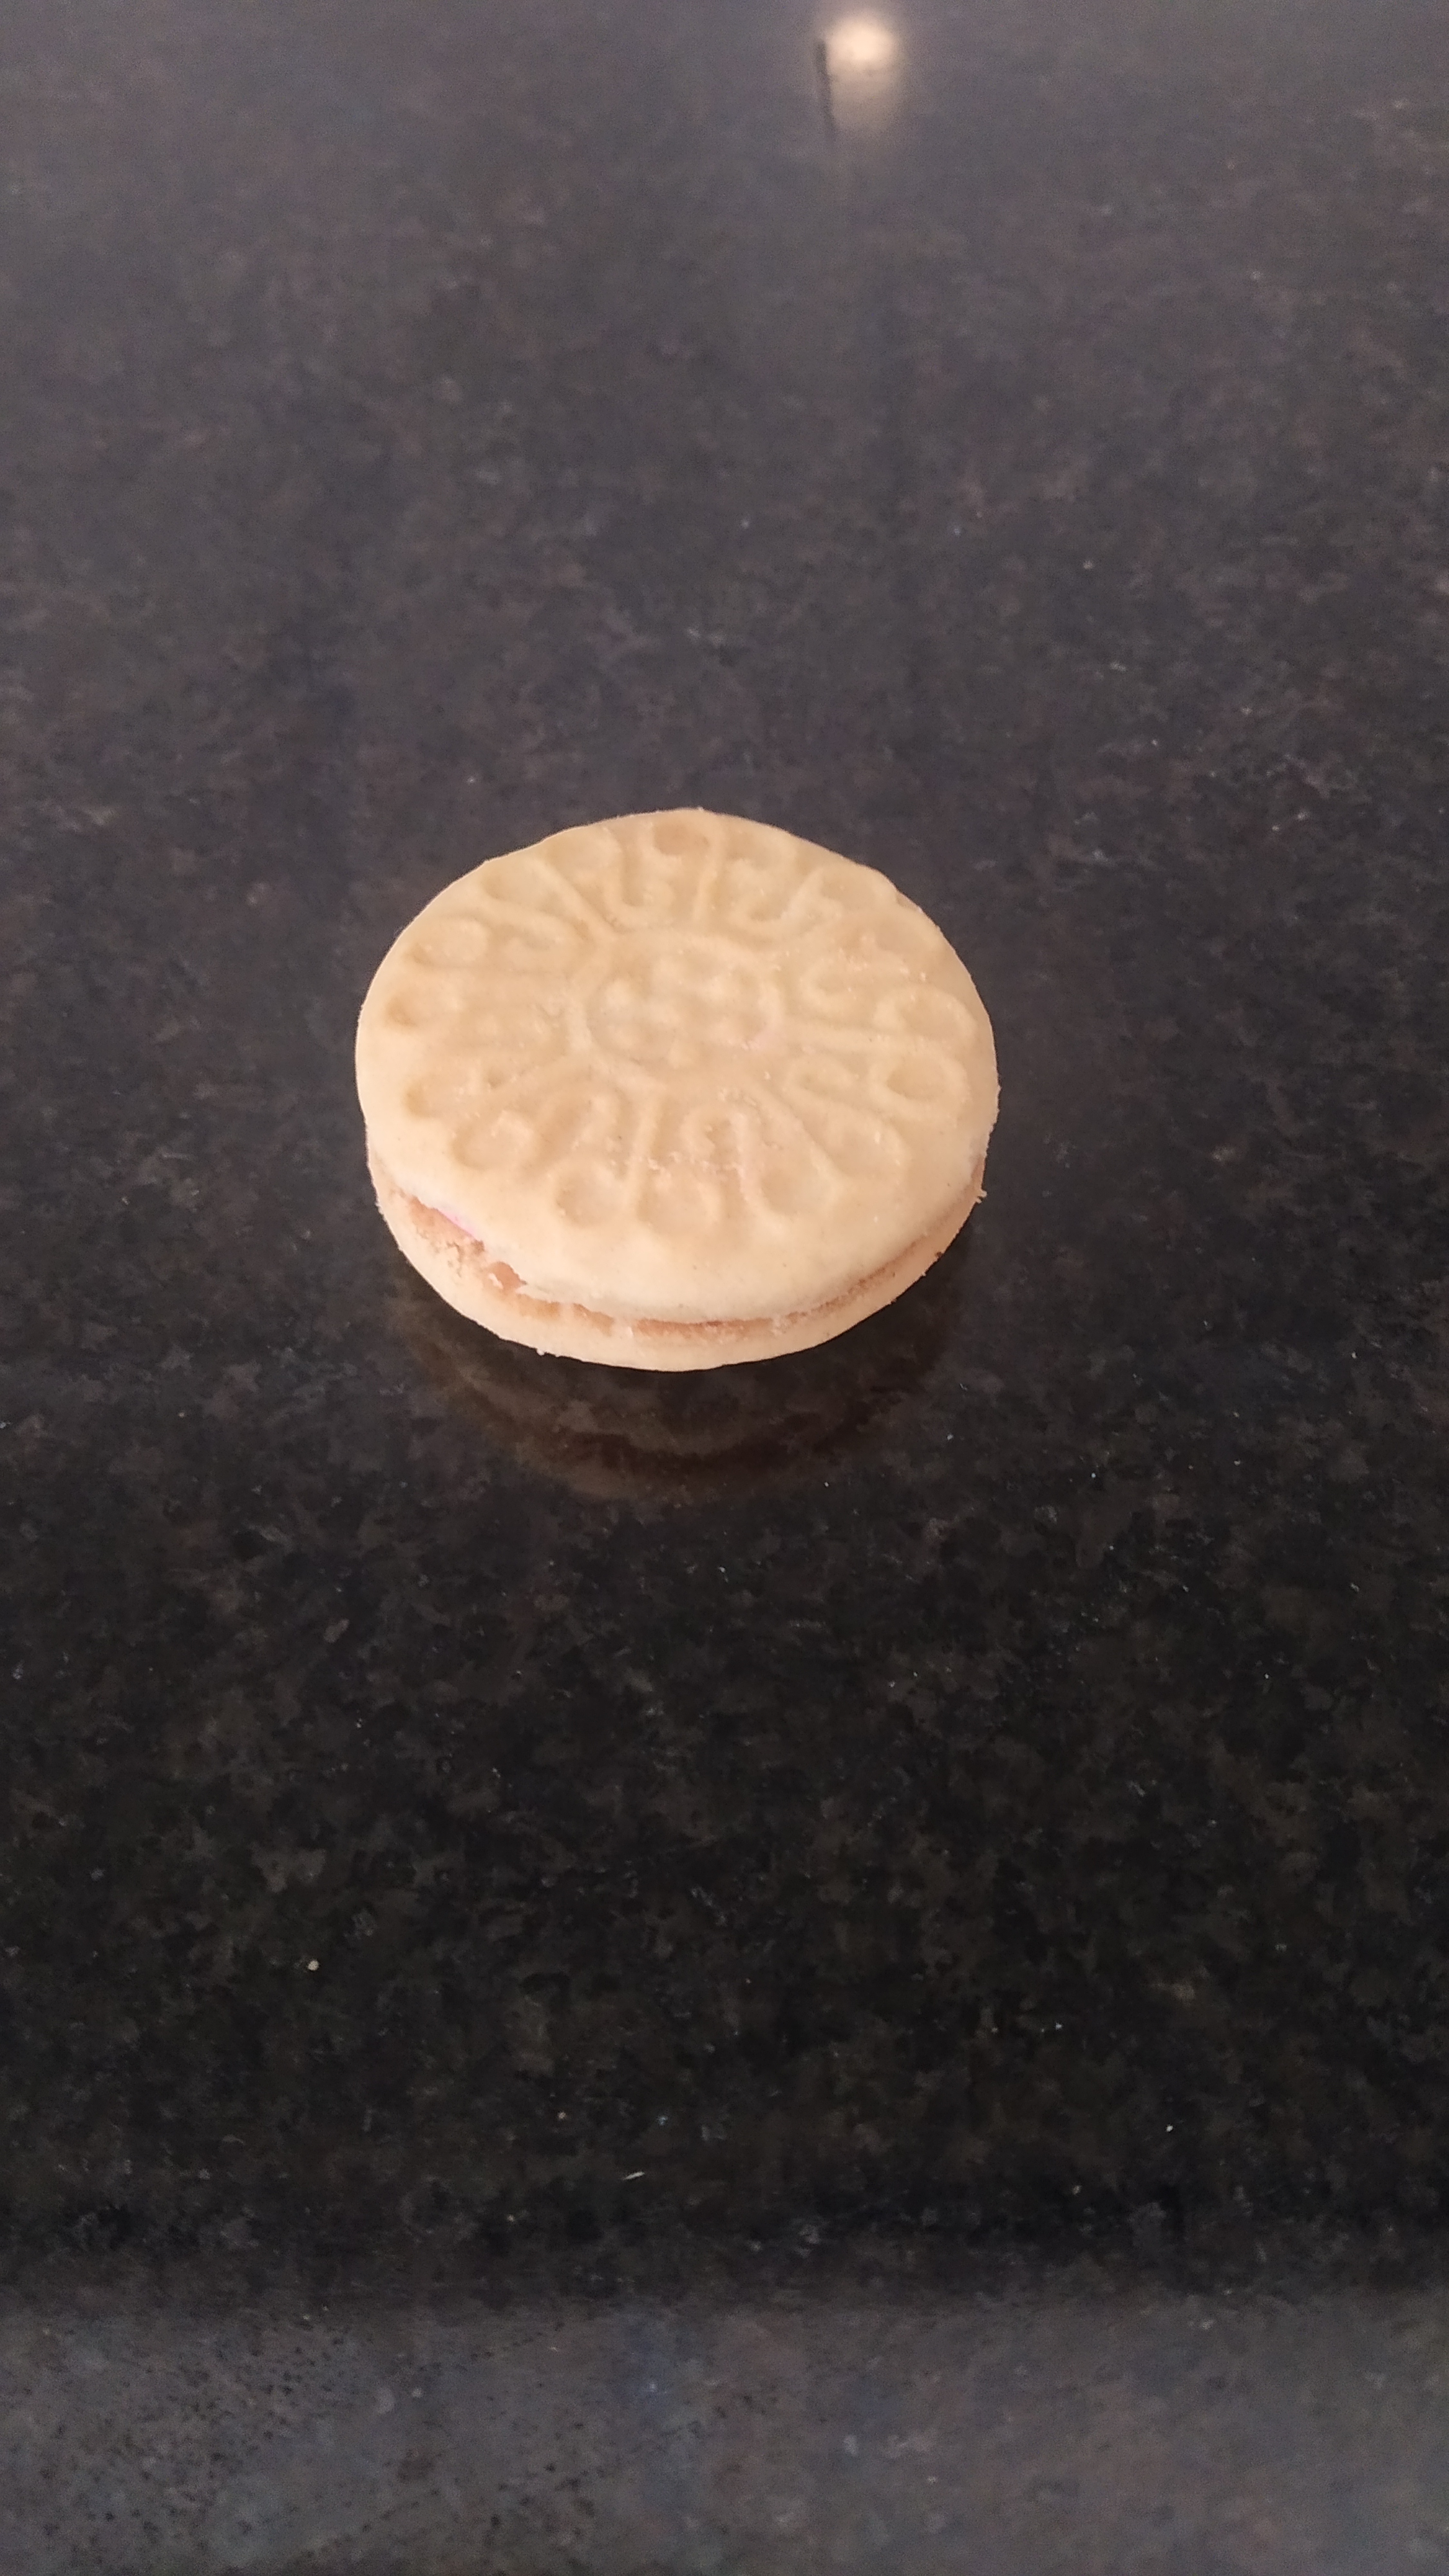lulu: (352, 807, 1001, 1373)
